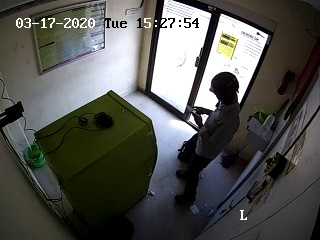helmet: (208, 72, 245, 109)
